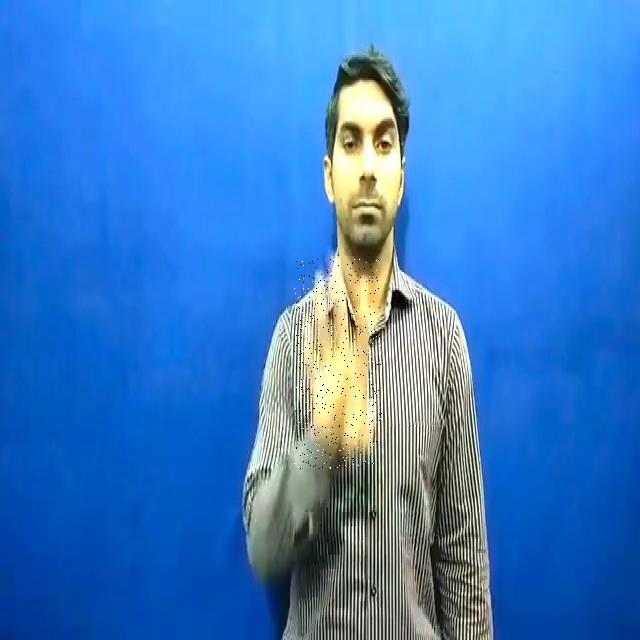french fries: (294, 259, 382, 469)
